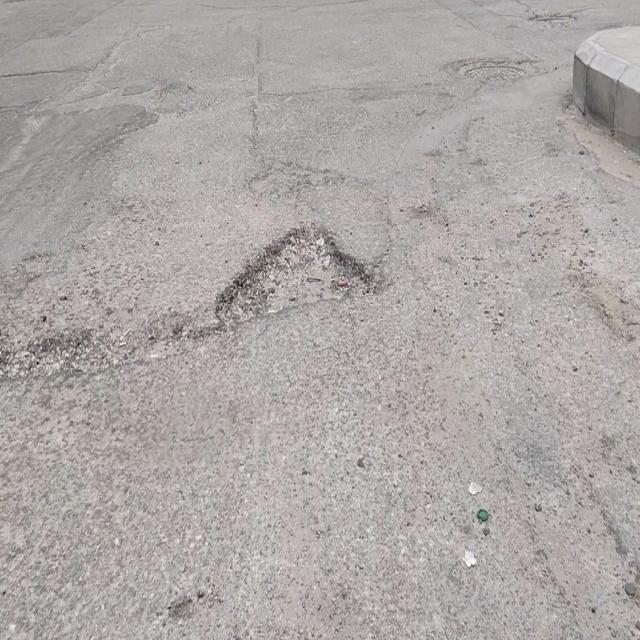Potholes: (211, 221, 379, 337)
